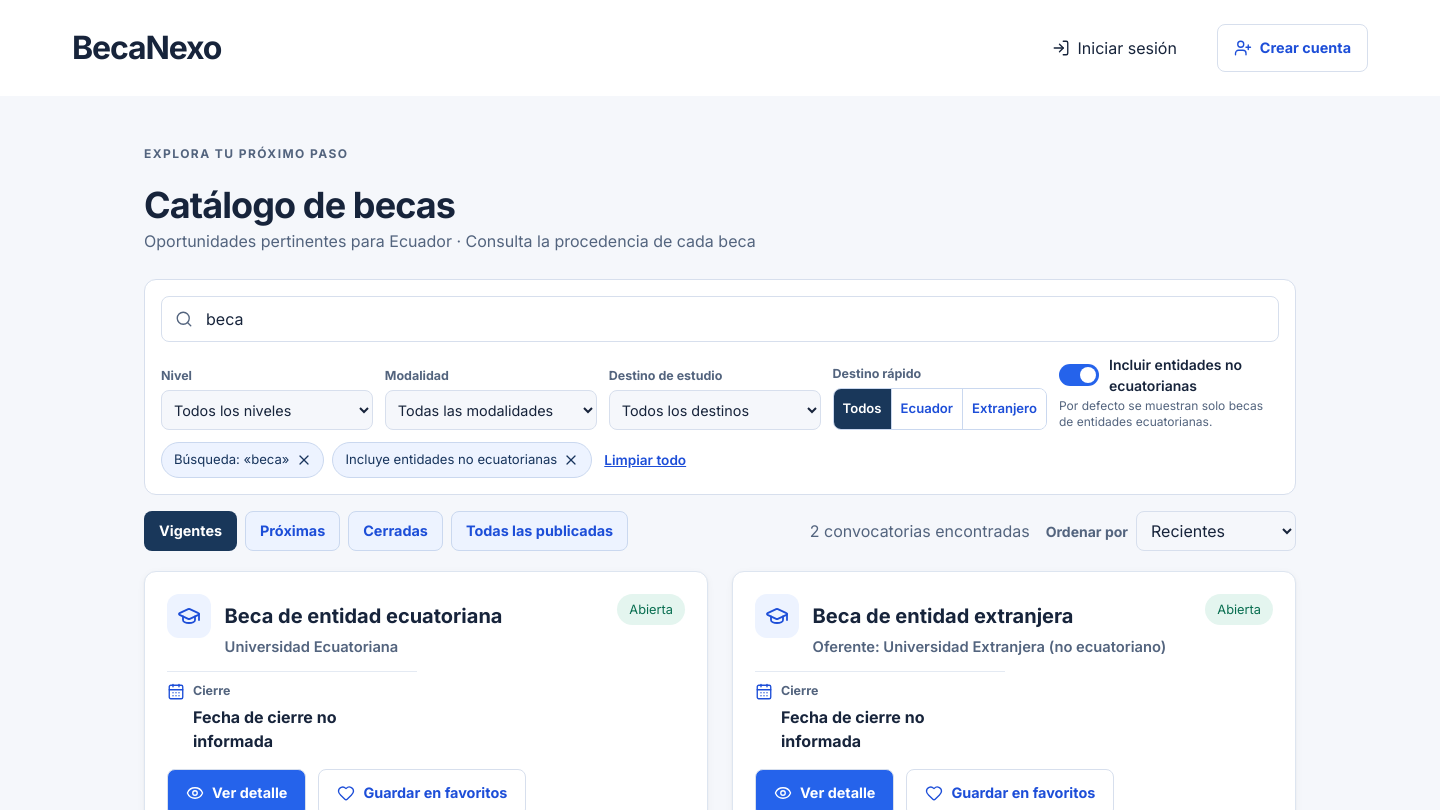
«Limpiar todo» lo desactiva y quita el parámetro
The width and height of the screenshot is (1440, 810).
Expected: the switch labelled "Incluir entidades no ecuatorianas" is checked, x1=1059 y1=364 x2=1099 y2=386
Click the button "Limpiar todo": (645, 460) x1=600 y1=444 x2=690 y2=476
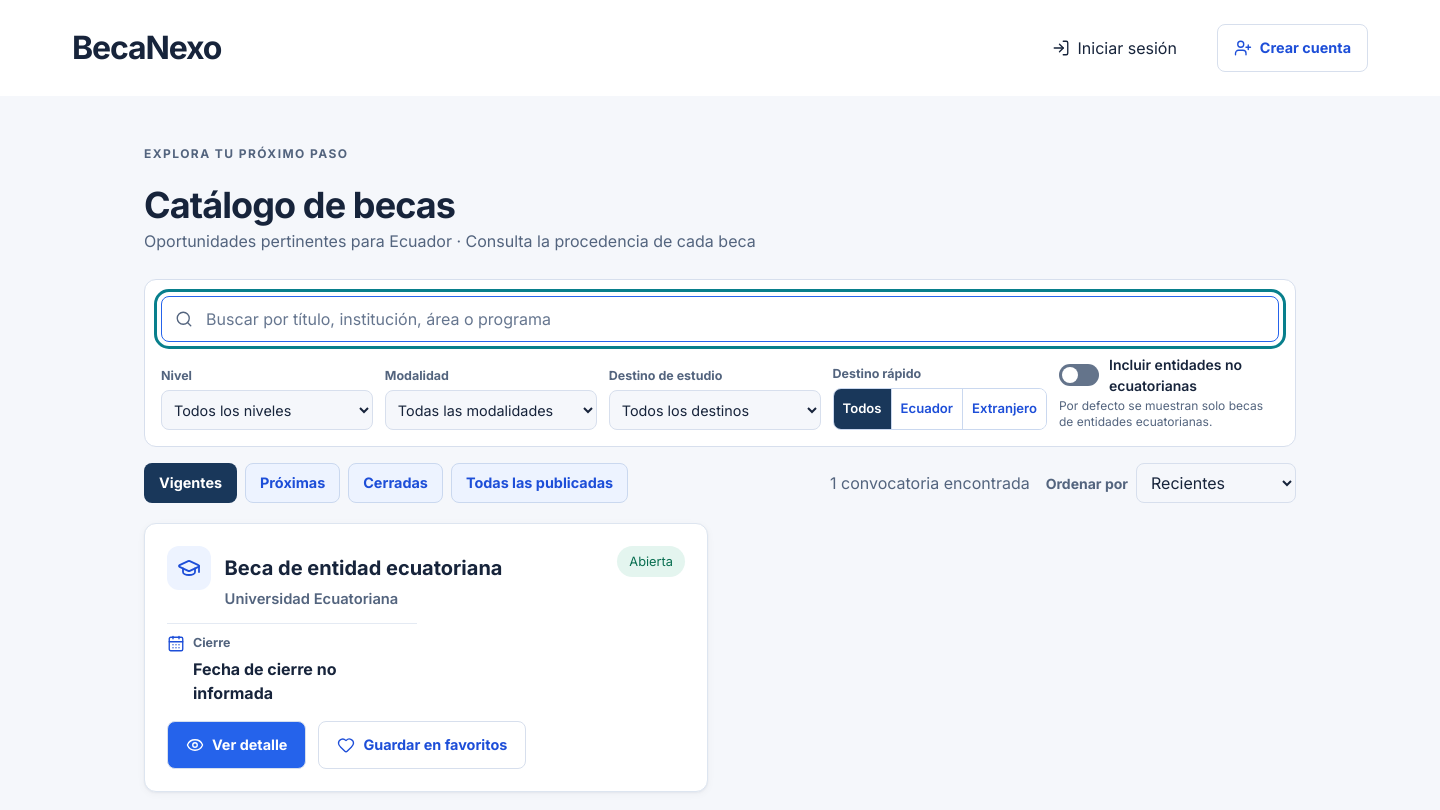
Now the switch labelled "Incluir entidades no ecuatorianas" is not checked, box x1=1059 y1=364 x2=1099 y2=386
